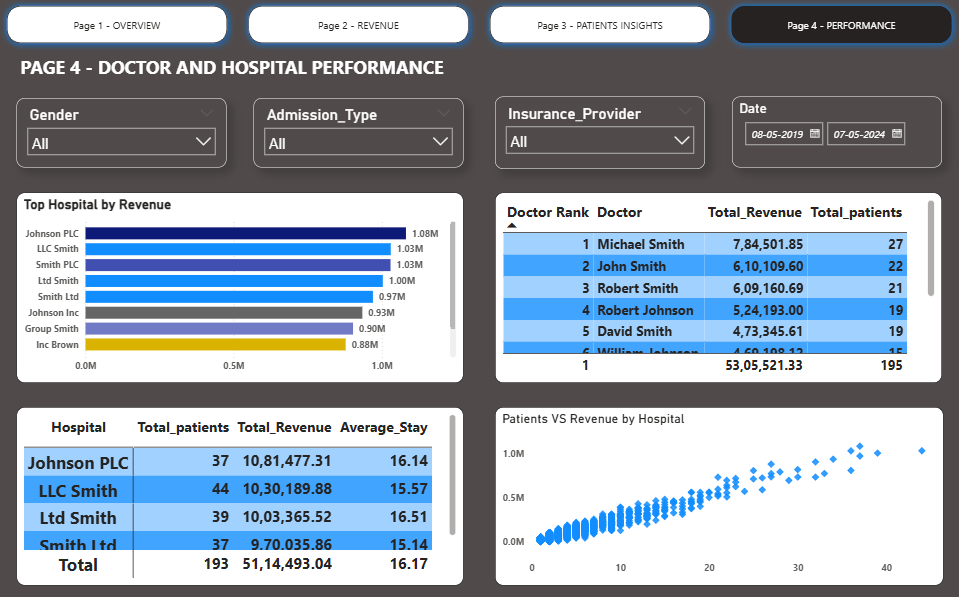

Layout of this report page (visuals, bound fields, positions):
{"tool":"powerbi","page":{"name":"Page 4 - PERFORMANCE","canvas":[1280,800],"ordinal":3},"visuals":[{"type":"slicer","fields":{"Values":["healthcare_data.Gender"]},"box":[22.7,132.3,279.7,92.6],"z":0},{"type":"slicer","fields":{"Values":["healthcare_data.Admission_Type"]},"box":[338.3,132.3,279.7,92.6],"z":1000},{"type":"slicer","fields":{"Values":["healthcare_data.Insurance_Provider"]},"box":[659.5,130.4,279.7,96.4],"z":2000},{"type":"slicer","title":"Date","fields":{"Values":["Calendar.Date"]},"box":[975.1,130.4,279.7,94.5],"z":3000},{"type":"clusteredBarChart","title":"Top Hospital by Revenue","fields":{"Category":["healthcare_data.Hospital"],"Y":["healthcare_data.Total_Revenue"]},"box":[22,258,596,254],"z":4000},{"type":"textbox","box":[22.7,68,1232.1,51],"z":5000},{"type":"pivotTable","fields":{"Rows":["healthcare_data.Hospital"],"Values":["healthcare_data.Total_patients","healthcare_data.Total_Revenue","healthcare_data.Average_Stay"]},"box":[22,544,596,238],"z":6000},{"type":"tableEx","fields":{"Values":["healthcare_data.Doctor Rank","healthcare_data.Doctor","healthcare_data.Total_Revenue","healthcare_data.Total_patients"]},"box":[660,258,596,254],"z":7000},{"type":"pageNavigator","box":[0,0,1279.4,68],"z":8000},{"type":"scatterChart","title":"Patients VS Revenue by Hospital","fields":{"X":["healthcare_data.Total_patients"],"Y":["healthcare_data.Total_Revenue"],"Category":["healthcare_data.Hospital"]},"box":[660,544,598,238],"z":9000}]}

Visuals, with their boxes in screenshot pixels (x1, y1, x2, y2), scaled from the page's 1280x800 canvas onto the 959x597 screenshot:
slicer - healthcare_data.Gender: [left=17, top=99, right=227, bottom=168]
slicer - healthcare_data.Admission_Type: [left=253, top=99, right=463, bottom=168]
slicer - healthcare_data.Insurance_Provider: [left=494, top=97, right=704, bottom=169]
"Date" slicer: [left=731, top=97, right=940, bottom=168]
"Top Hospital by Revenue" clusteredBarChart: [left=16, top=193, right=463, bottom=382]
textbox: [left=17, top=51, right=940, bottom=89]
pivotTable - healthcare_data.Hospital x healthcare_data.Total_patients: [left=16, top=406, right=463, bottom=584]
tableEx - healthcare_data.Doctor Rank x healthcare_data.Doctor: [left=494, top=193, right=941, bottom=382]
pageNavigator: [left=0, top=0, right=958, bottom=51]
"Patients VS Revenue by Hospital" scatterChart: [left=494, top=406, right=943, bottom=584]
